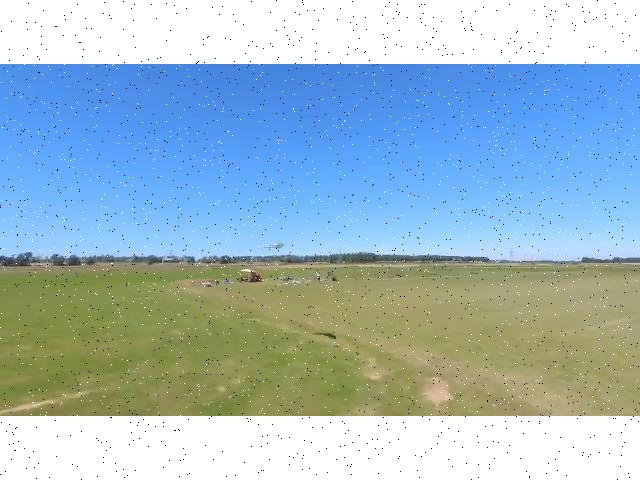Anti-Drone: (246, 233, 294, 259)
